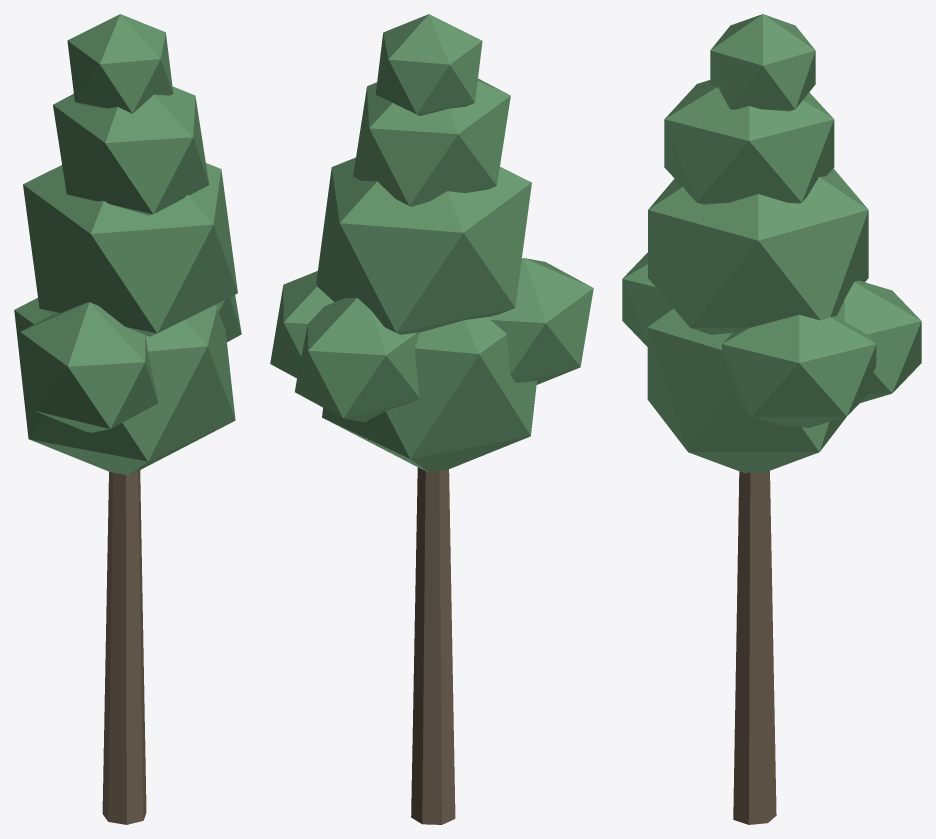
File: tree-narrow.glb
3 renders of one model, left to right at view 1: azimuth 30°, elevation 25°; view 2: azimuth 150°, elevation 25°; view 3: azimuth 270°, elevation 25°, orthographic.
Visible parts, largest first — view 1: TreeNarrow; view 2: TreeNarrow; view 3: TreeNarrow.
Boxes of the visible parts, x1,y1,x2,y2 form: TreeNarrow: (14,14,241,824); TreeNarrow: (270,14,593,824); TreeNarrow: (622,14,921,824).
Size of the model in its own units: 0.6262 by 1.95 by 0.6603.
